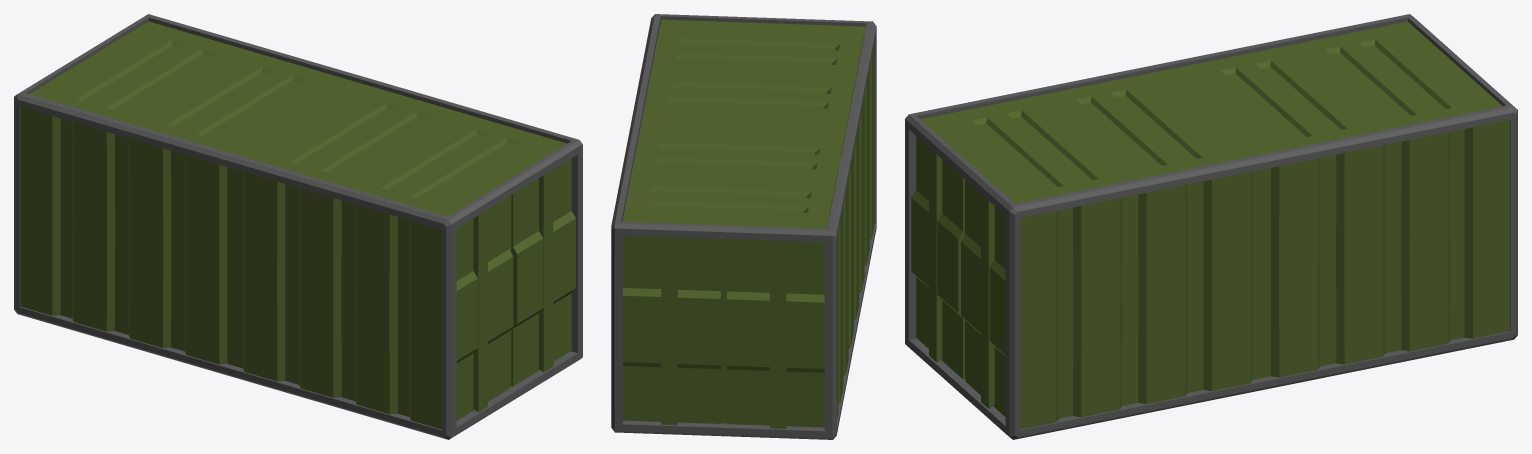
The model's file is container_green.001_lev1.glb.
The picture shows the model from 3 angles, left to right: view 1: azimuth 30°, elevation 25°; view 2: azimuth 150°, elevation 25°; view 3: azimuth 270°, elevation 25°; orthographic projection. The views are drawn at different scales.
Visible parts, largest first — view 1: container_green.001_lev1; view 2: container_green.001_lev1; view 3: container_green.001_lev1.
Boxes of the visible parts, x1,y1,x2,y2 form: container_green.001_lev1: (14, 14, 582, 439); container_green.001_lev1: (611, 14, 876, 439); container_green.001_lev1: (905, 14, 1517, 439).
Bounding box in the file's own units: 4.72 × 2.6 × 6.22.
Materials: 1 (1 with a texture image).
